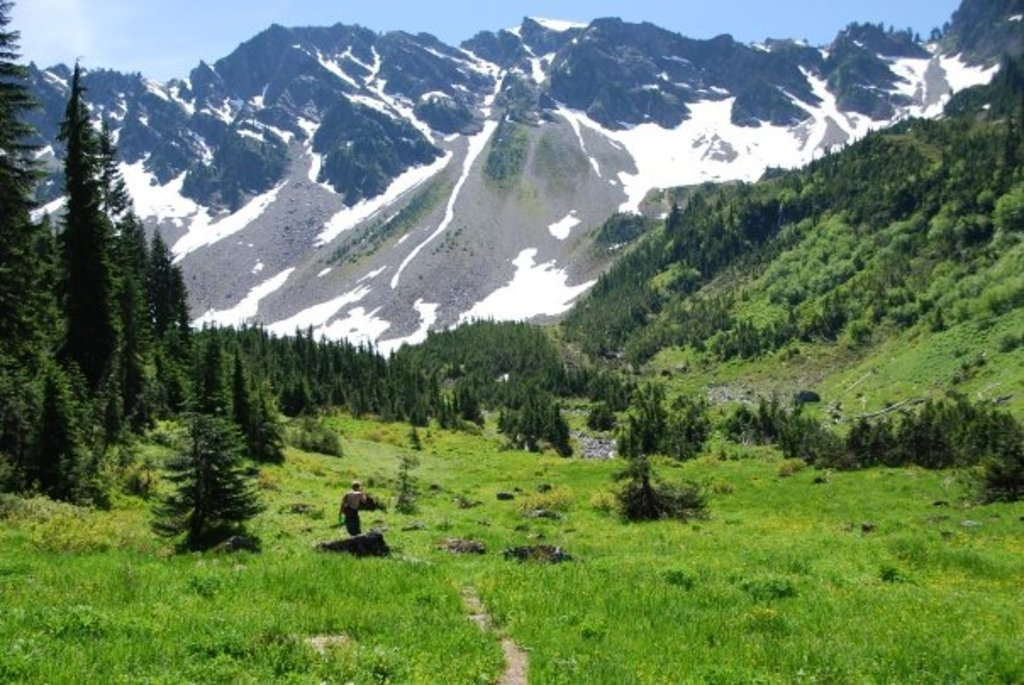Tree: (0, 0, 1024, 557)
